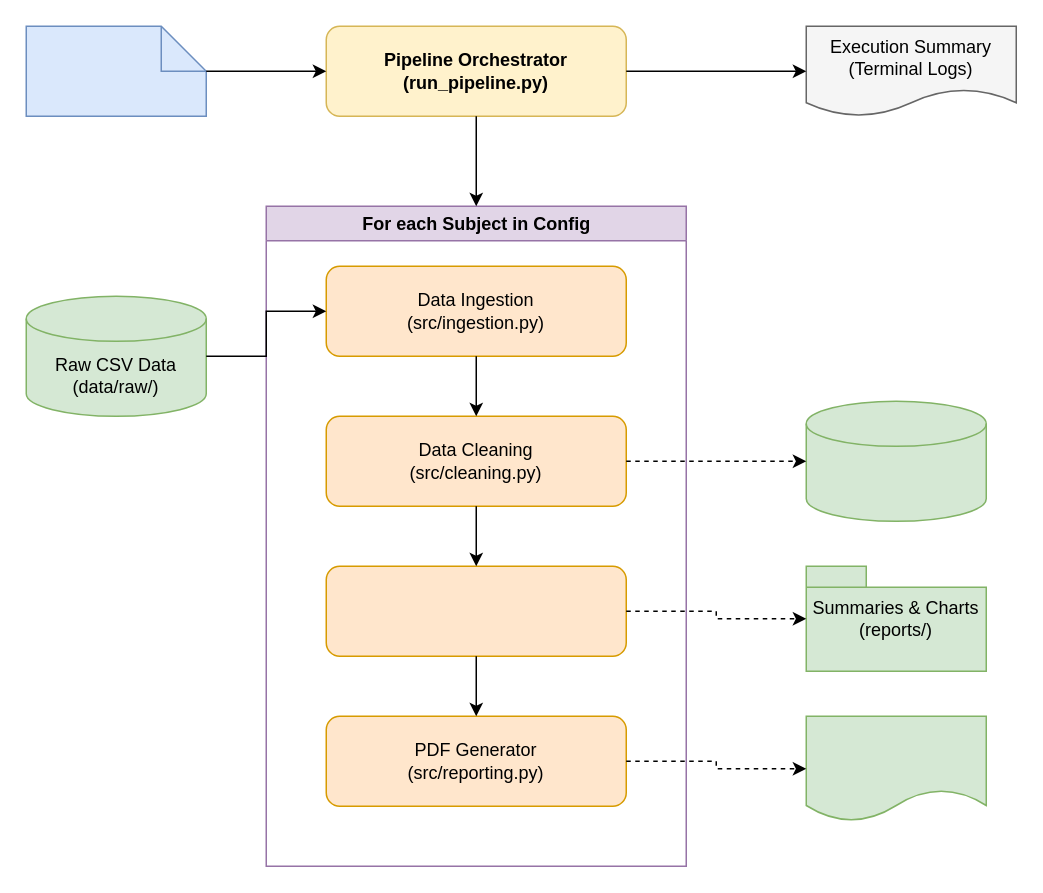
The diagram is 1043 pixels wide and 893 high, and some of its shapes have lost their labels. Each missing label, with the centre of its shape:
"Config File (config.yaml)" goes at (115,70).
"Data Analysis & Plots (src/analysis.py)" goes at (475,610).
"Processed CSVs (data/processed/)" goes at (895,460).
"Subject PDF Report (reports/)" goes at (895,768).
